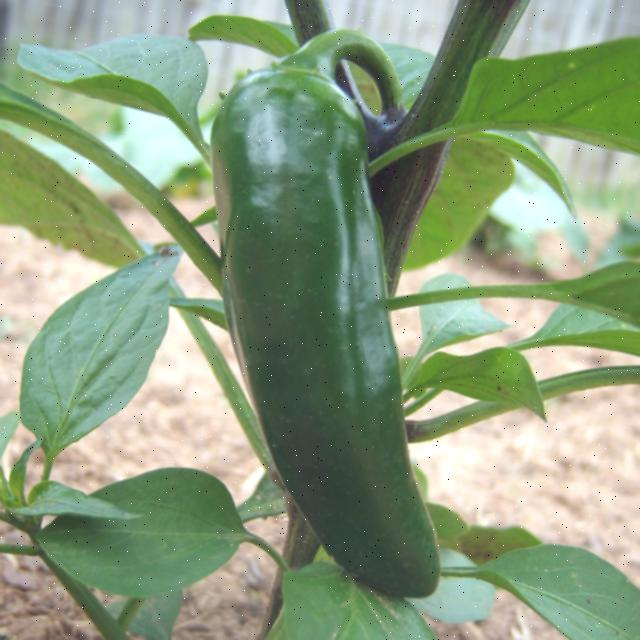Chili Pepper: (211, 30, 440, 597)
